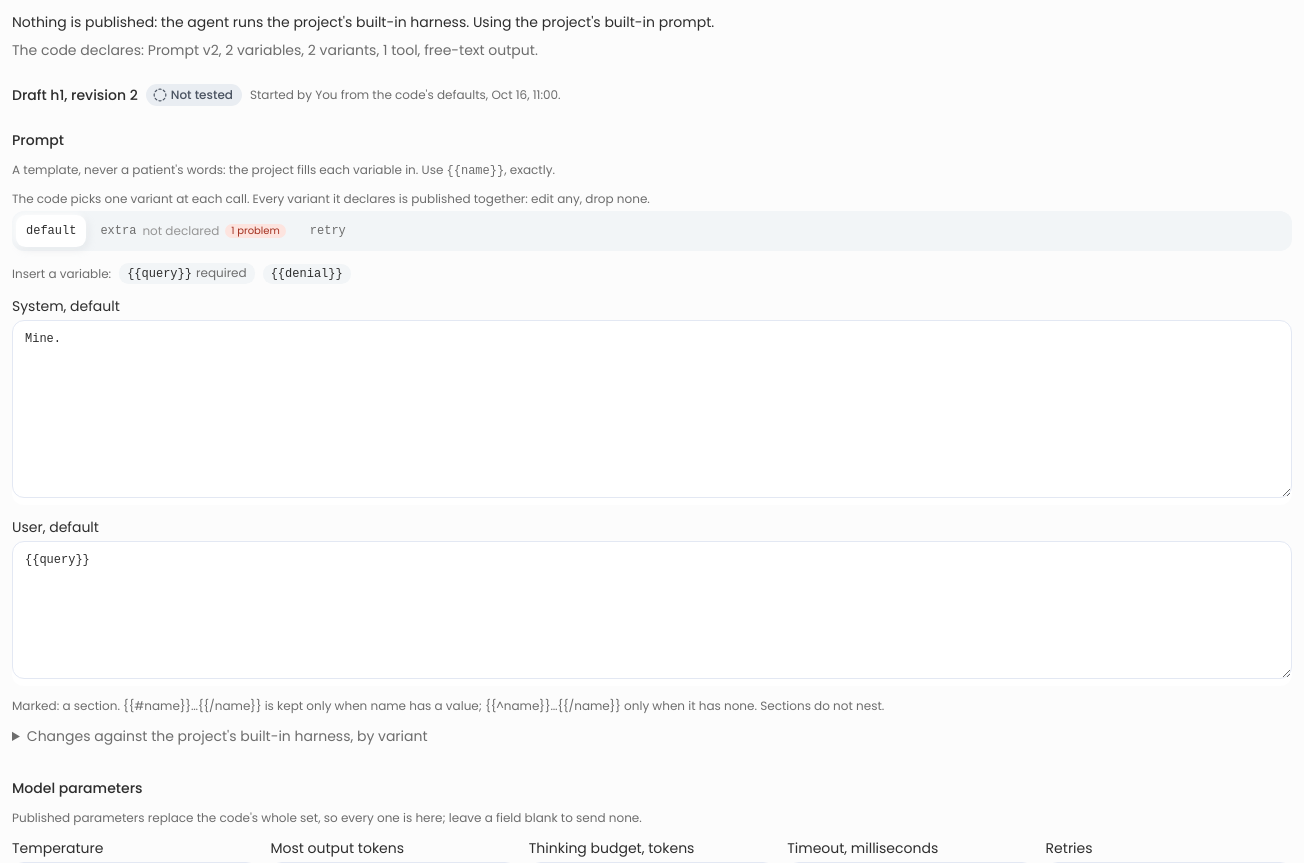
it: a variant the draft lacks is put back from the code; one the code does not declare can be removed
Click the button "extra not declared 1 problem".
click(193, 231)  # box [90, 215, 296, 247]
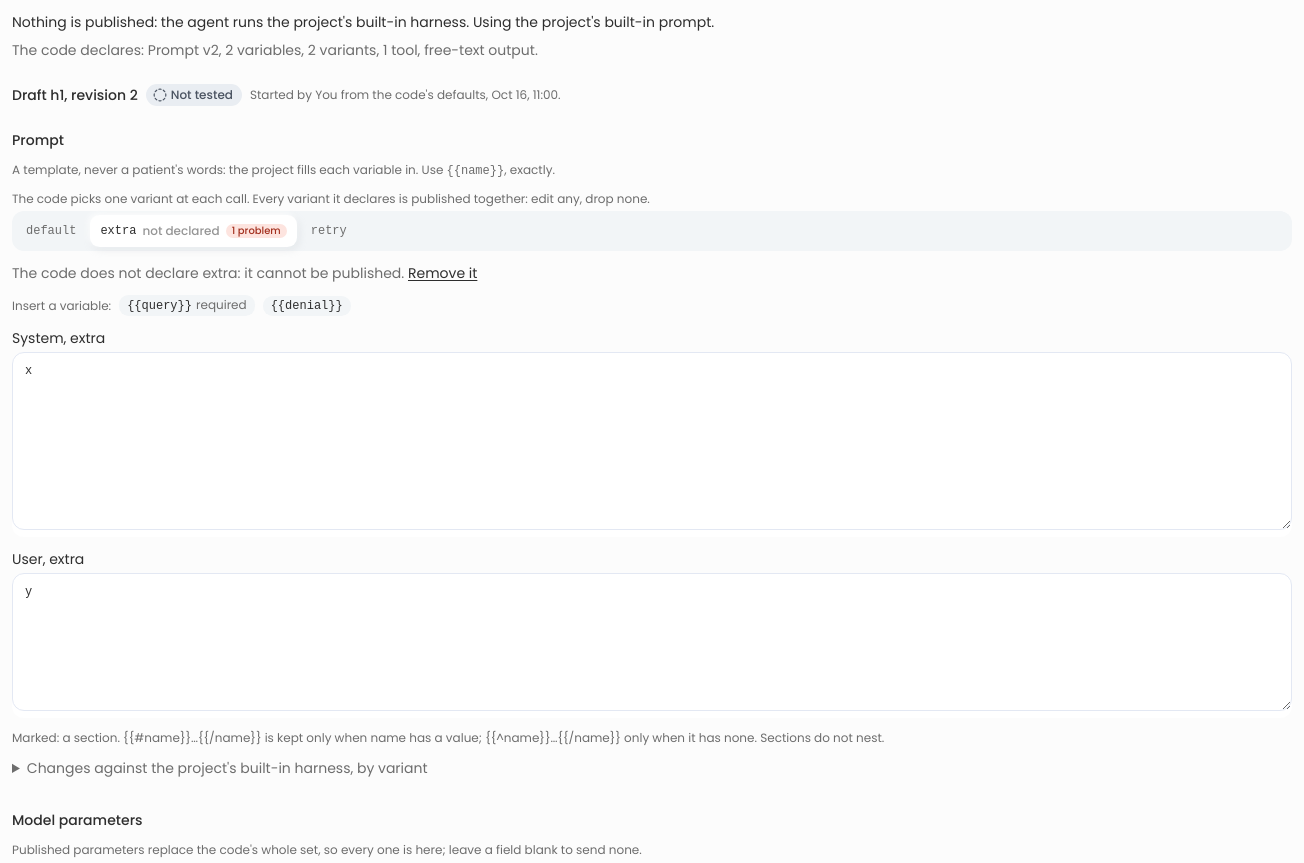
Click the button "Remove it".
click(443, 273)  # box [408, 263, 477, 283]
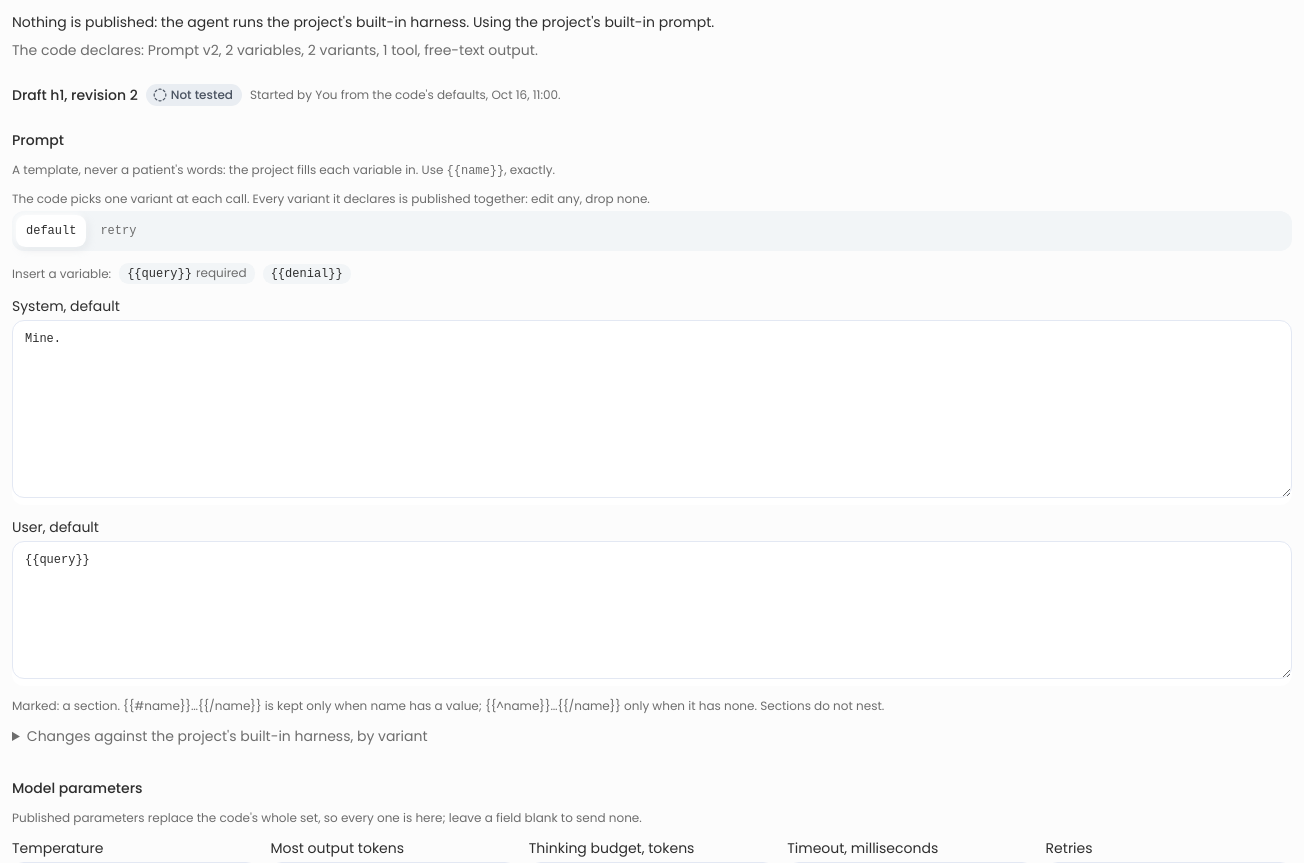
Now the buttons read "default", "retry", in this order, box [16, 215, 86, 247]; [90, 215, 146, 247]
